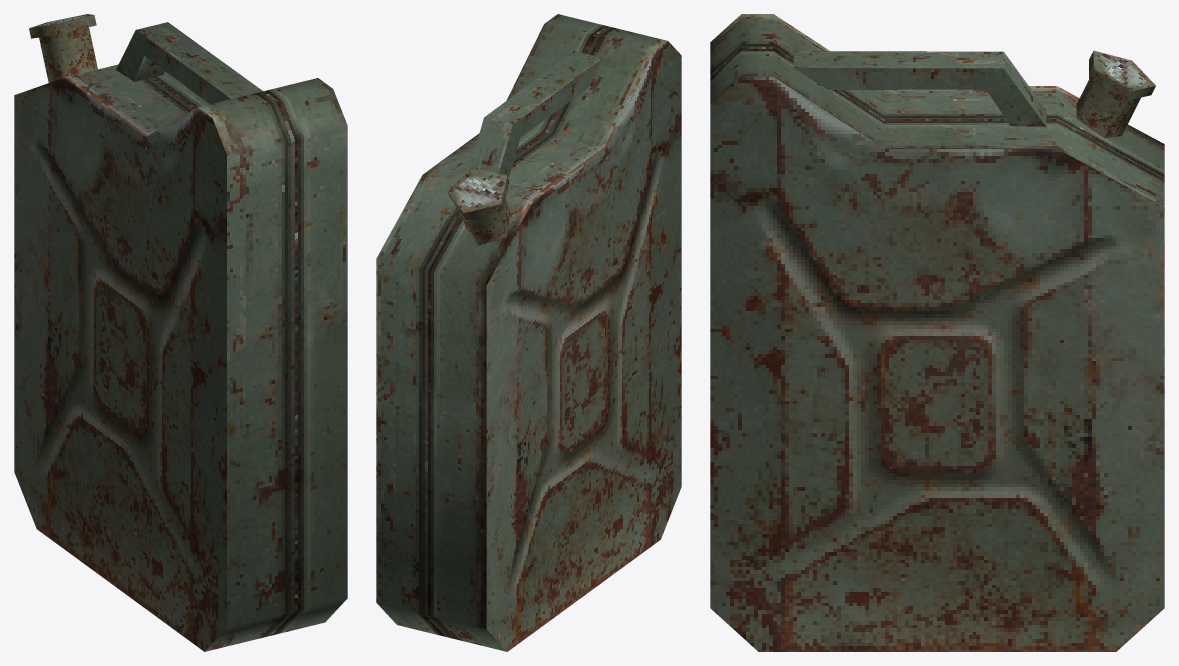
Rendered from oil.glb.
3 views of the same model, side by side, from view 1: azimuth 30°, elevation 25°; view 2: azimuth 150°, elevation 25°; view 3: azimuth 270°, elevation 25° (orthographic). The views are drawn at different scales.
Visible parts, largest first — view 1: Petrol_Can; view 2: Petrol_Can; view 3: Petrol_Can.
Part boxes in pixels (x1,y1,x2,y2): Petrol_Can: [14, 14, 347, 651]; Petrol_Can: [376, 14, 681, 651]; Petrol_Can: [710, 14, 1164, 651].
Bounding box in the file's own units: 0.1047 × 0.4458 × 0.319.
1 material, 1 textured.
